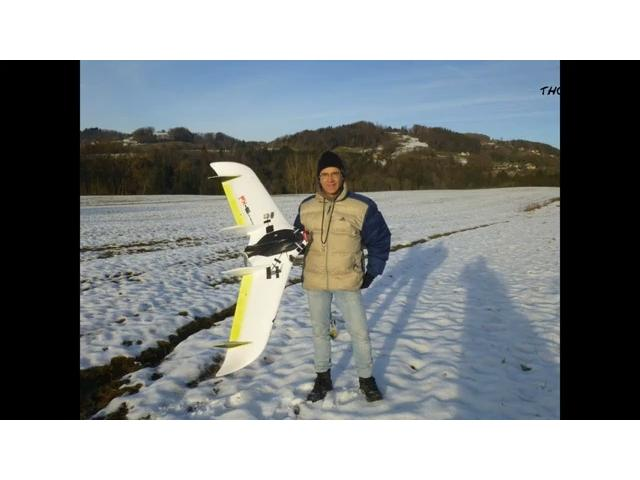Anti-Drone: (175, 152, 322, 374)
